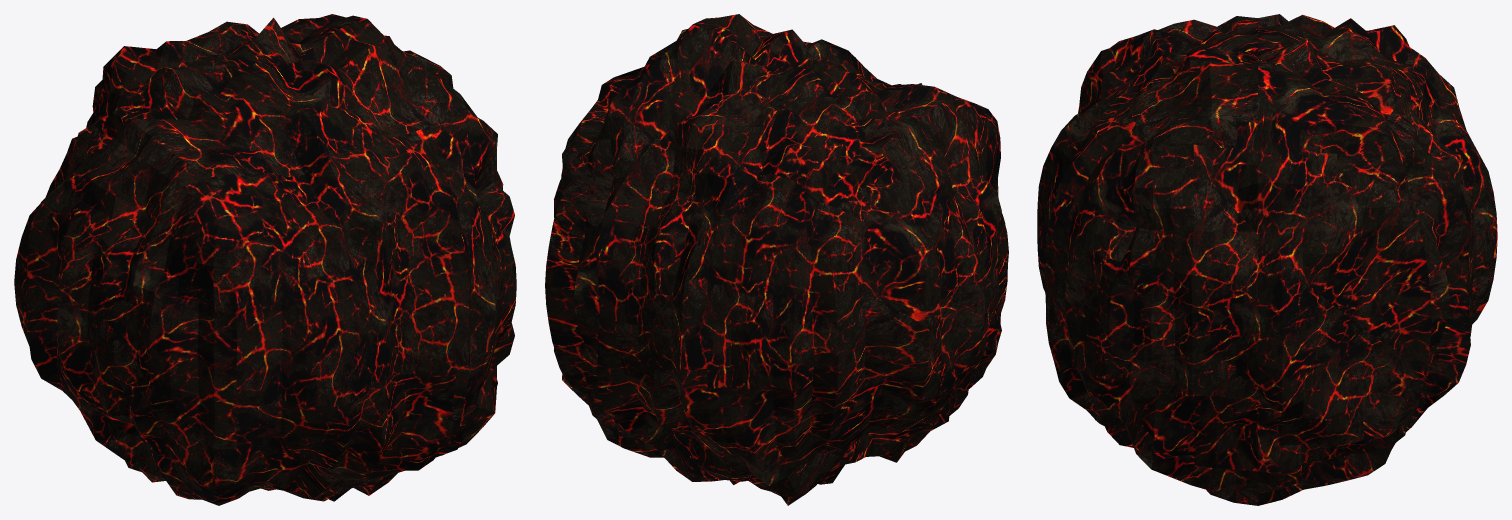
File: asteroid139.obj
3 renders of one model, left to right at view 1: azimuth 30°, elevation 25°; view 2: azimuth 150°, elevation 25°; view 3: azimuth 270°, elevation 25°, orthographic. The views are drawn at different scales.
Visible parts, largest first — view 1: Cube_Cube.002; view 2: Cube_Cube.002; view 3: Cube_Cube.002.
Boxes of the visible parts, x1,y1,x2,y2 form: Cube_Cube.002: (14, 14, 516, 505); Cube_Cube.002: (545, 14, 1008, 505); Cube_Cube.002: (1037, 14, 1497, 505).
Size of the model in its own units: 1.88 by 1.86 by 1.78.
